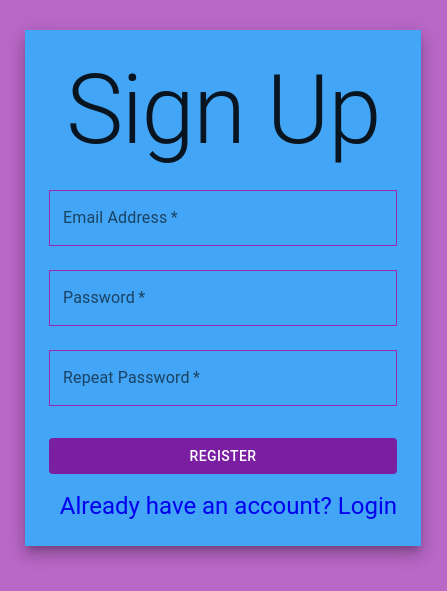
Scenario: Register Page › Checks invalid repeat password typing
The width and height of the screenshot is (447, 591).
Type "example@gmail.com" into the field labelled "Email Address *" at (223, 218), box x1=49 y1=190 x2=397 y2=246
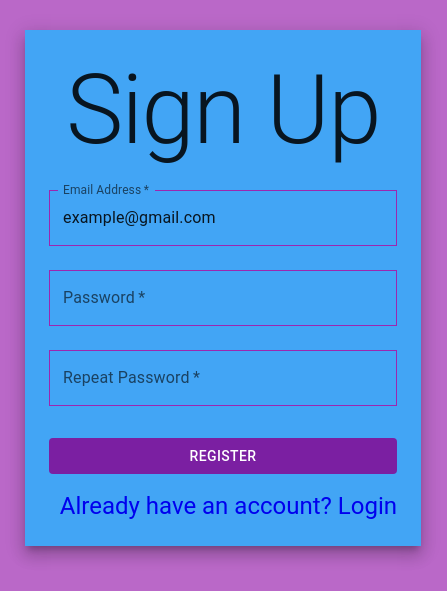
Type "123456" into the password field with test id "password-input" at (223, 298), box x1=49 y1=270 x2=397 y2=326
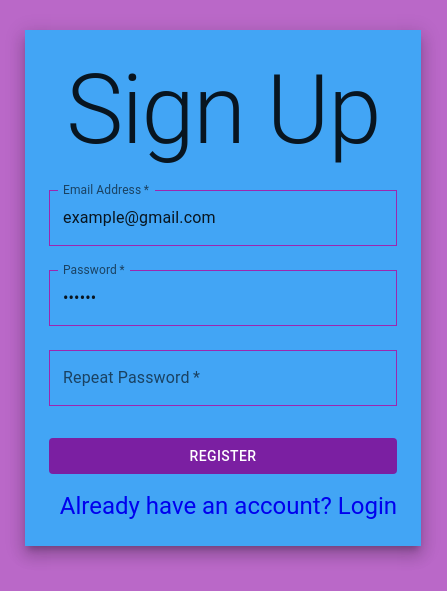
Type "12" into the password field with test id "repeat-password-input" at (223, 378), box x1=49 y1=350 x2=397 y2=406
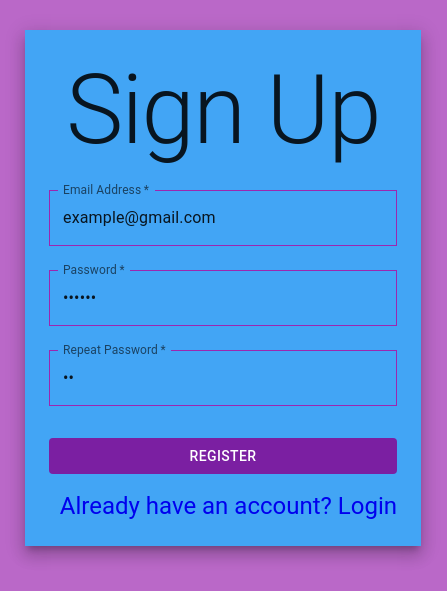
Click the button "Register" at (223, 456), box x1=49 y1=438 x2=397 y2=474
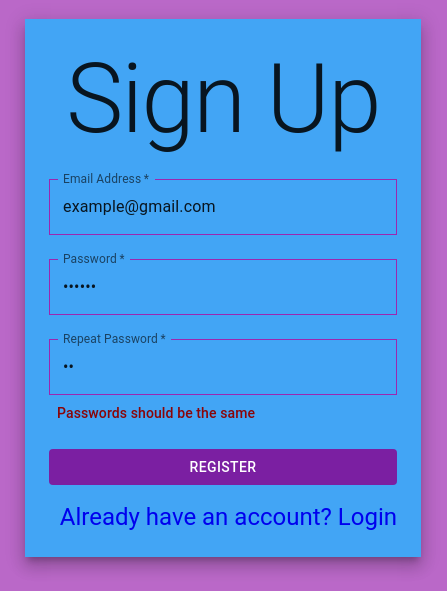
Now the heading "Passwords should be the same" is shown, box x1=57 y1=405 x2=255 y2=421
